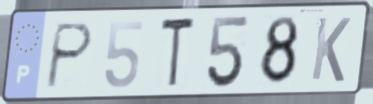5: (204, 13, 252, 91), (102, 18, 146, 90)
8: (256, 13, 300, 88)
K: (308, 15, 354, 85)
P: (42, 20, 97, 92)
T: (159, 14, 198, 92)
